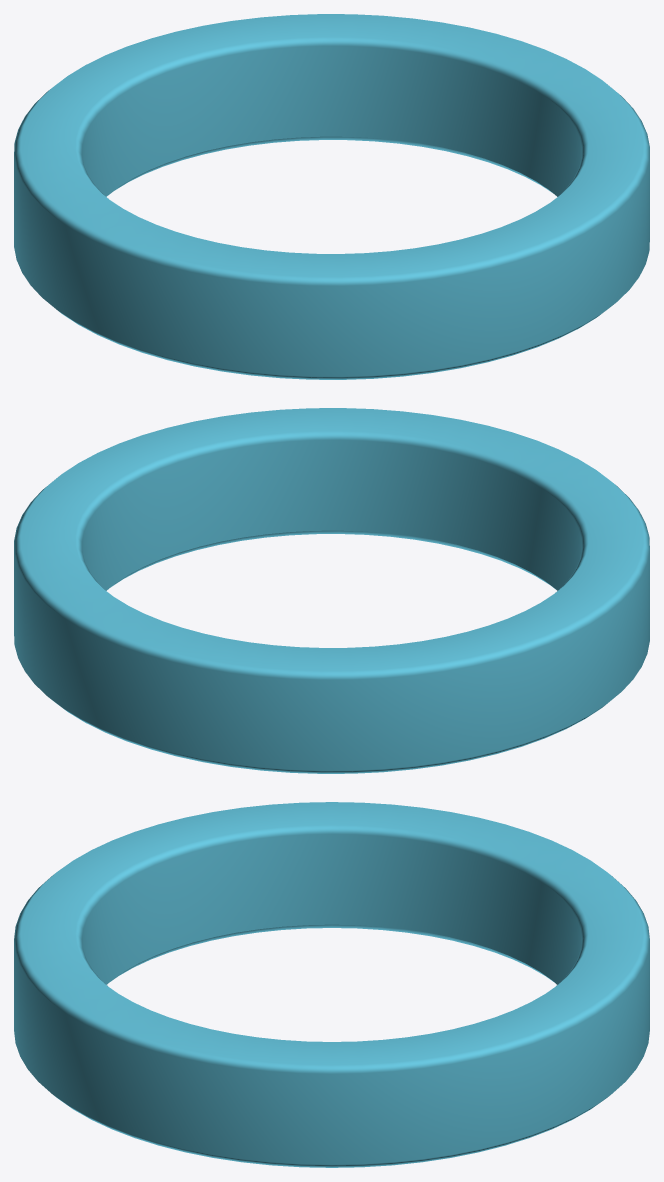
3 renders of one model, top to bottom at view 1: azimuth 30°, elevation 25°; view 2: azimuth 150°, elevation 25°; view 3: azimuth 270°, elevation 25°, orthographic.
Parts seen in each view (by area): view 1: seal_body; view 2: seal_body; view 3: seal_body.
Part boxes in pixels (bbox=[...]): seal_body: bbox=[14, 14, 649, 379]; seal_body: bbox=[14, 408, 649, 773]; seal_body: bbox=[14, 802, 649, 1167].
Bounding box in the file's own units: 0.0889 × 0.0159 × 0.0889.
